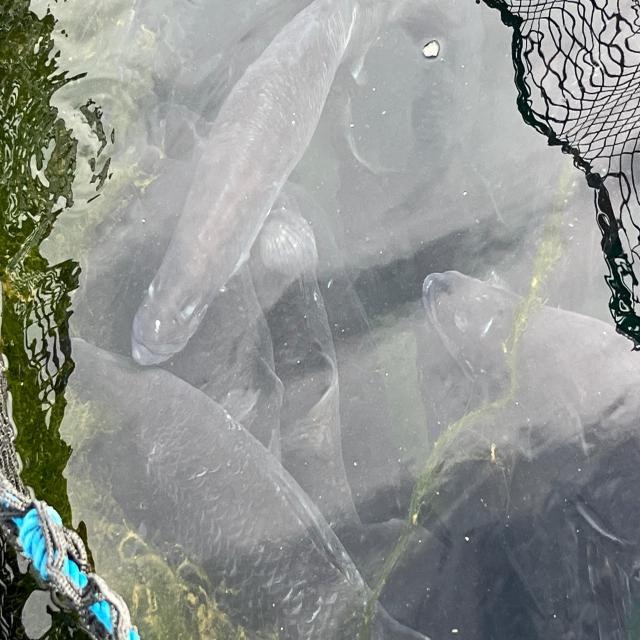ikan: (112, 77, 287, 370), (358, 179, 579, 405)
